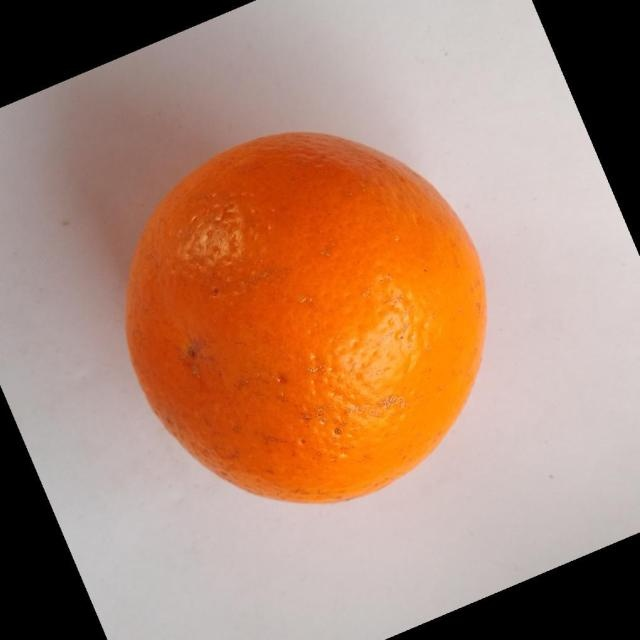agrume: (124, 129, 488, 504)
